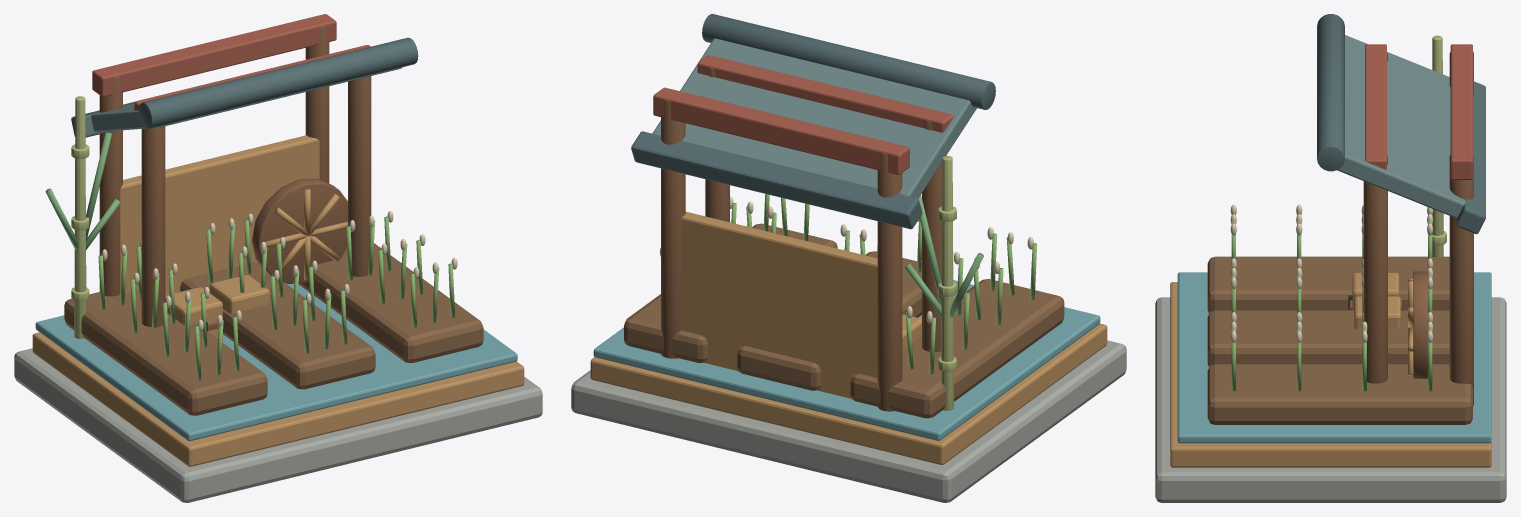
The model's file is building_farm_open.glb.
3 renders of one model, left to right at view 1: azimuth 30°, elevation 25°; view 2: azimuth 150°, elevation 25°; view 3: azimuth 270°, elevation 25°, orthographic. The views are drawn at different scales.
Visible parts, largest first — view 1: Foundation.001, FarmBackWall, WetPaddy, RaisedFloor.001, PaddyRidge, PaddyRidge.002, PaddyRidge.001, RoofRidge.001, TopBeam.003, WaterWheel, TimberPost.004, TimberPost.006 (+7 smaller); view 2: FarmBackWall, Foundation.001, RaisedFloor.001, WetPaddy, PaddyRidge, RearEave.001, TopBeam.003, RoofRidge.001, TopBeam.002, TimberPost.005, TimberPost.007, PaddyRidge.001 (+9 smaller); view 3: Foundation.001, PaddyRidge.002, WetPaddy, PaddyRidge.001, PaddyRidge, RaisedFloor.001, TimberPost.006, TimberPost.007, RoofRidge.001, TopBeam.003, TopBeam.002, RearEave.001 (+16 smaller).
Boxes of the visible parts, x1=… form: Foundation.001: x1=14, y1=348, x2=542, y2=502; FarmBackWall: x1=120, y1=135, x2=319, y2=295; WetPaddy: x1=35, y1=283, x2=517, y2=441; RaisedFloor.001: x1=32, y1=332, x2=524, y2=466; PaddyRidge: x1=64, y1=290, x2=267, y2=415; PaddyRidge.002: x1=299, y1=243, x2=483, y2=362; PaddyRidge.001: x1=180, y1=262, x2=375, y2=389; RoofRidge.001: x1=138, y1=37, x2=418, y2=128; TopBeam.003: x1=92, y1=14, x2=336, y2=96; WaterWheel: x1=252, y1=178, x2=347, y2=283; TimberPost.004: x1=141, y1=126, x2=165, y2=327; TimberPost.006: x1=348, y1=76, x2=371, y2=276; FarmBackWall: x1=681, y1=211, x2=877, y2=398; Foundation.001: x1=571, y1=340, x2=1126, y2=502; RaisedFloor.001: x1=590, y1=323, x2=1107, y2=464; WetPaddy: x1=593, y1=280, x2=1100, y2=440; PaddyRidge: x1=850, y1=279, x2=1064, y2=418; RearEave.001: x1=631, y1=131, x2=922, y2=229; TopBeam.003: x1=653, y1=87, x2=909, y2=174; RoofRidge.001: x1=702, y1=14, x2=995, y2=109; TopBeam.002: x1=697, y1=55, x2=953, y2=132; TimberPost.005: x1=877, y1=153, x2=902, y2=411; TimberPost.007: x1=661, y1=100, x2=685, y2=358; PaddyRidge.001: x1=737, y1=251, x2=921, y2=390; Foundation.001: x1=1155, y1=297, x2=1506, y2=502; PaddyRidge.002: x1=1207, y1=364, x2=1472, y2=424; WetPaddy: x1=1177, y1=272, x2=1491, y2=443; PaddyRidge.001: x1=1207, y1=310, x2=1449, y2=367; PaddyRidge: x1=1207, y1=256, x2=1449, y2=313; RaisedFloor.001: x1=1170, y1=282, x2=1491, y2=467; TimberPost.006: x1=1363, y1=154, x2=1387, y2=383; TimberPost.007: x1=1449, y1=154, x2=1473, y2=406; RoofRidge.001: x1=1317, y1=14, x2=1344, y2=171; TopBeam.003: x1=1450, y1=44, x2=1472, y2=179; TopBeam.002: x1=1365, y1=44, x2=1386, y2=169; RearEave.001: x1=1456, y1=81, x2=1485, y2=233.
Bounding box in the file's own units: 2.28 × 1.98 × 1.88.
